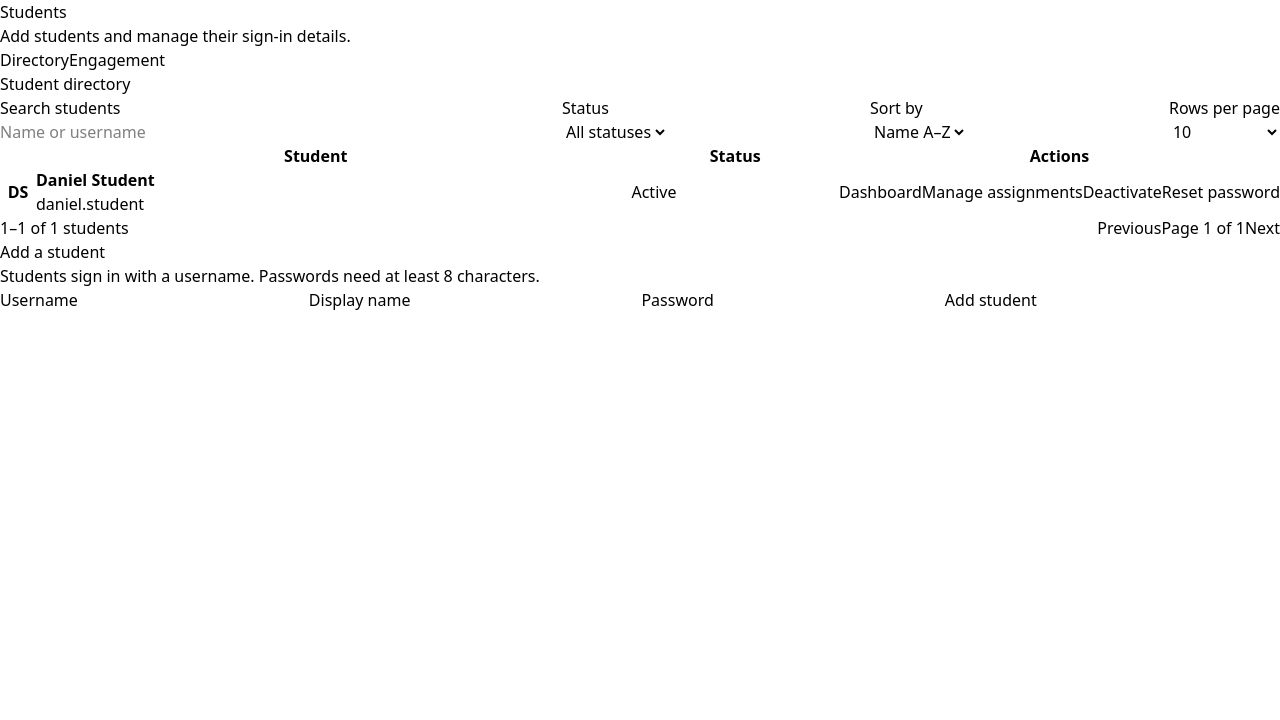
Test: Coach directory pages › resets the chosen student's password
Click the button named "Reset password for Daniel Student" at (1221, 192), box [1162,180,1279,204]
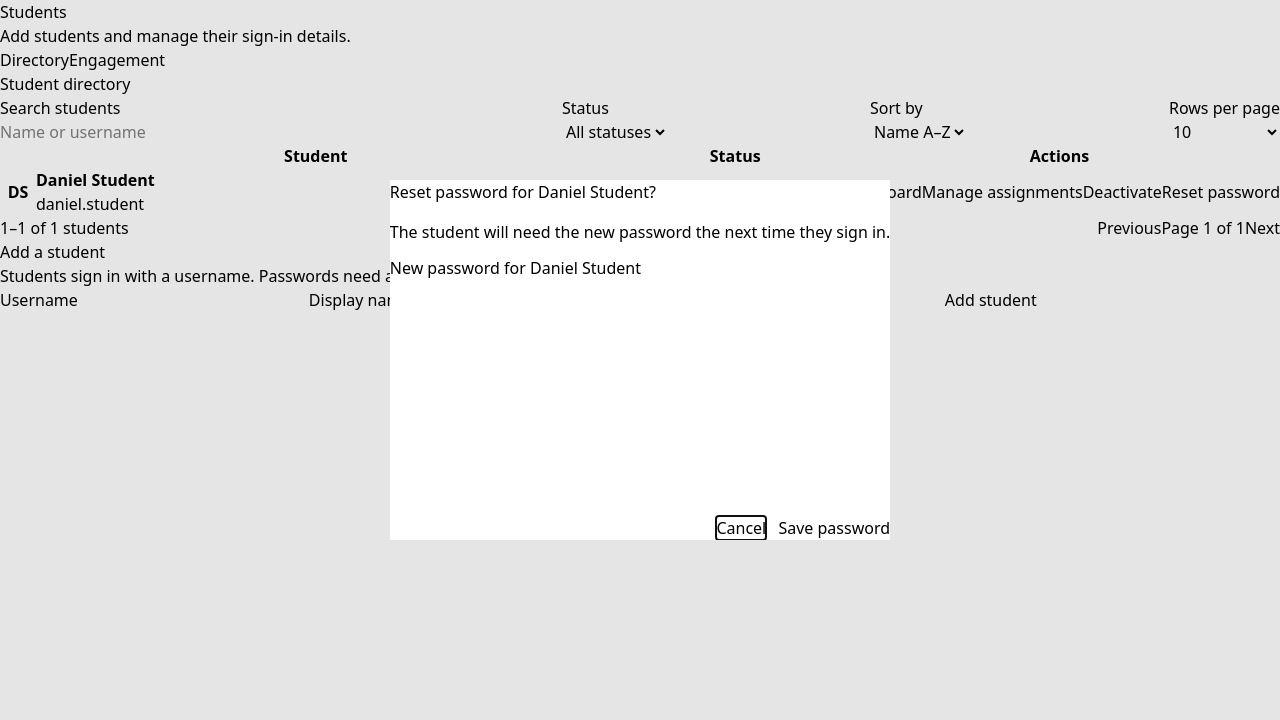
Type "ChangedPass123" into the password field labelled "New password for Daniel Student" at (756, 268), box [641,256,872,280]
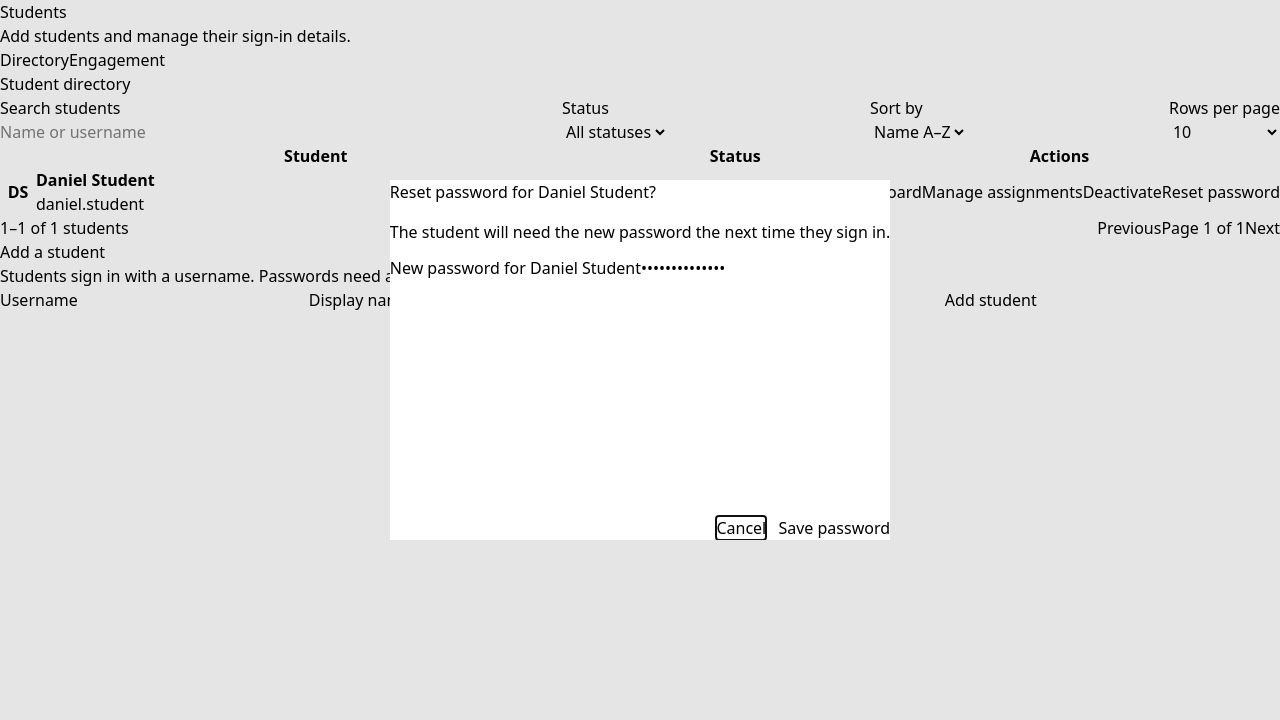
Click the button "Save password" at (834, 528), box [778,516,890,540]
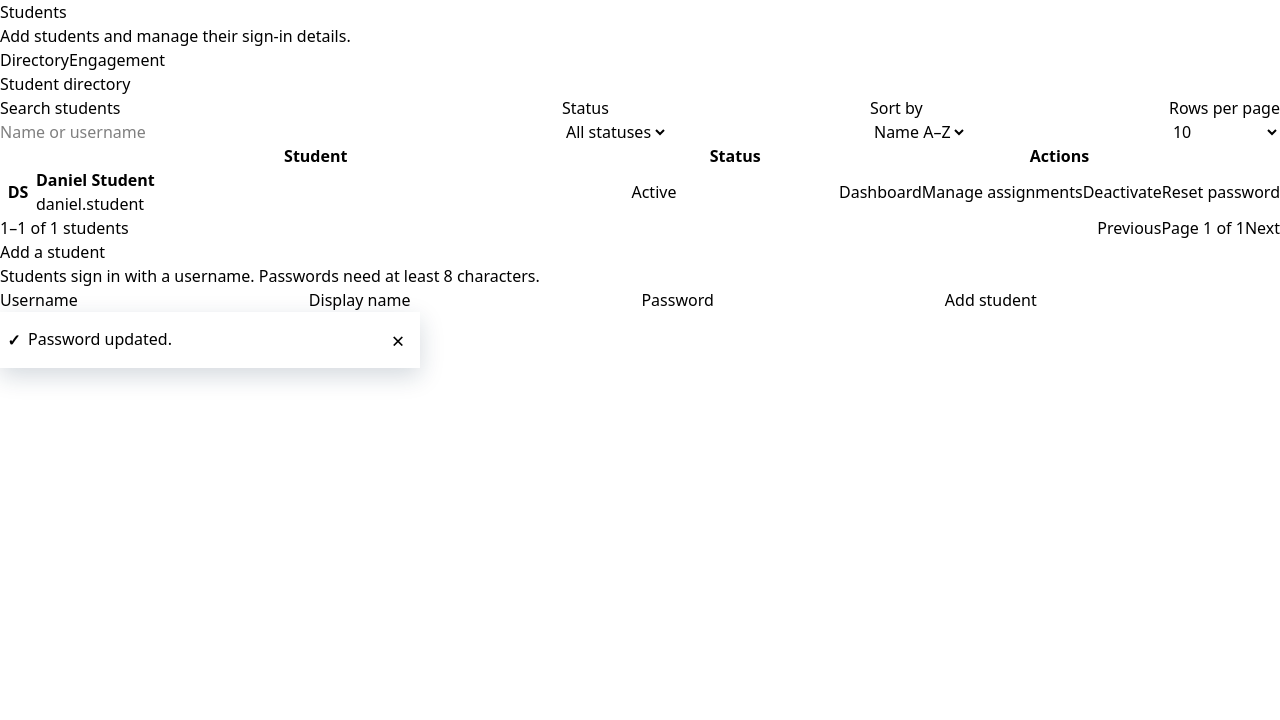
Check: the text "Password updated." is shown, box [28,328,172,350]
